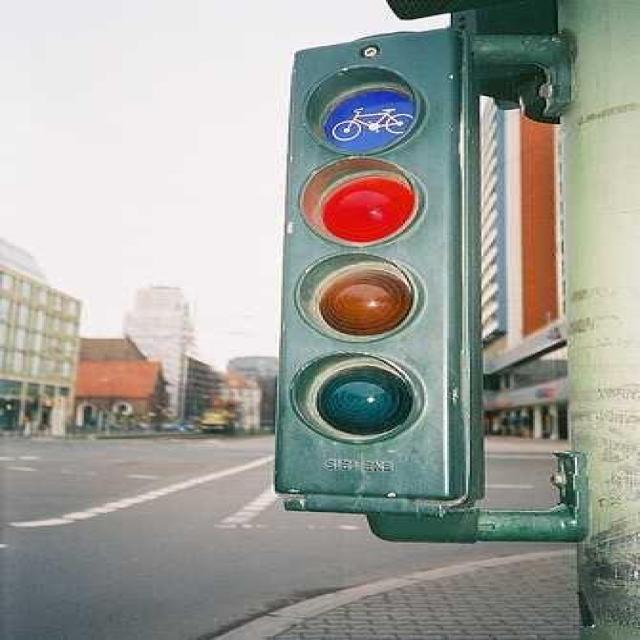Traffic Light -Red-: (282, 38, 436, 516)
